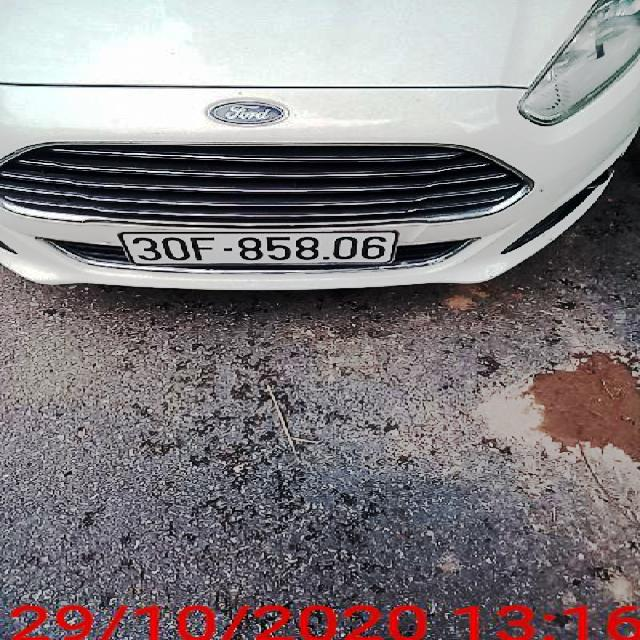license_plate: (123, 233, 399, 269)
